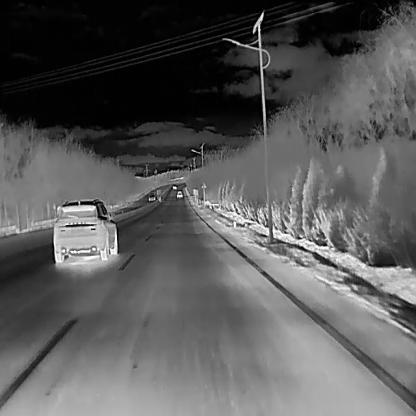car: (52, 199, 118, 263), (147, 190, 156, 202), (176, 190, 184, 198), (171, 183, 175, 188)
